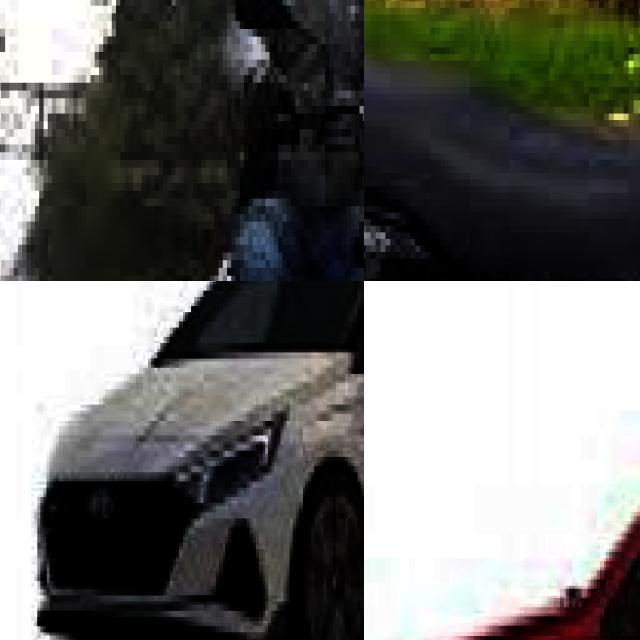bike: (364, 0, 640, 281), (163, 21, 364, 281)
car: (19, 281, 364, 640), (364, 302, 640, 640)
